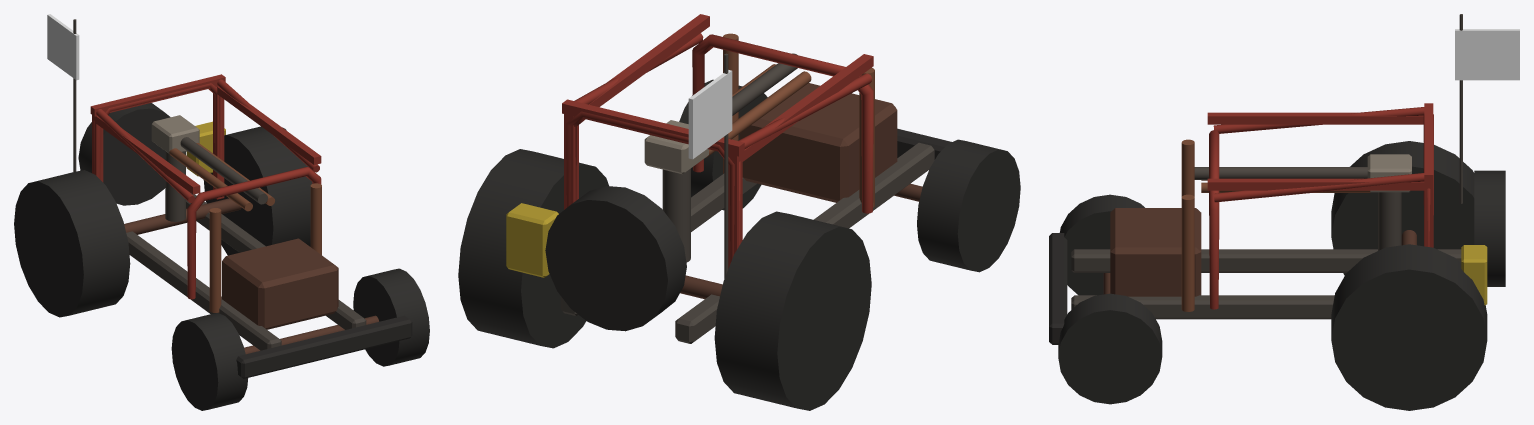
The picture shows the model from 3 angles, left to right: view 1: azimuth 30°, elevation 25°; view 2: azimuth 150°, elevation 25°; view 3: azimuth 270°, elevation 25°; orthographic projection. The views are drawn at different scales.
Parts seen in each view (by area): view 1: raider_vehicle_buggy; view 2: raider_vehicle_buggy; view 3: raider_vehicle_buggy.
Boxes of the visible parts, box(x1,y1,x2,y2) form: raider_vehicle_buggy: box(14, 14, 429, 410); raider_vehicle_buggy: box(458, 14, 1020, 410); raider_vehicle_buggy: box(1049, 14, 1519, 410).
Bounding box in the file's own units: 2.34 × 2.5 × 3.62.
